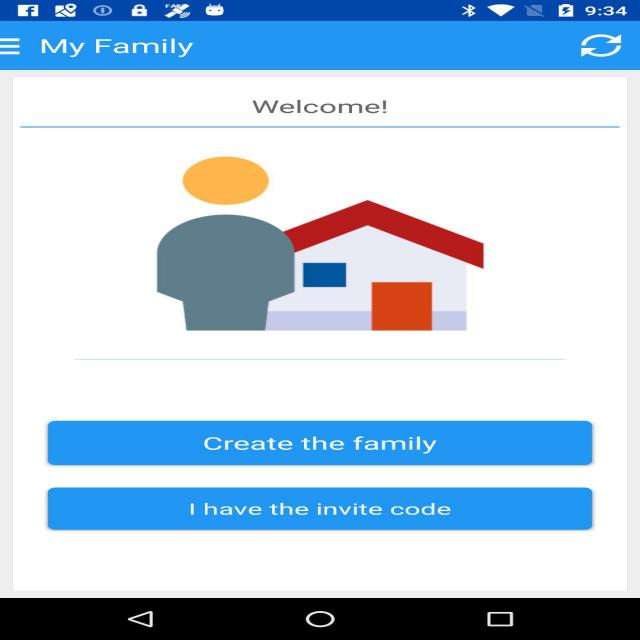button: (105, 485, 559, 525), (142, 436, 592, 466), (534, 31, 640, 91), (0, 27, 31, 69)
icon: (174, 165, 531, 292), (565, 36, 633, 69), (0, 29, 24, 81)
image: (132, 146, 606, 367)
text: (158, 494, 519, 528), (244, 92, 431, 133), (46, 30, 244, 65), (196, 440, 490, 462)
